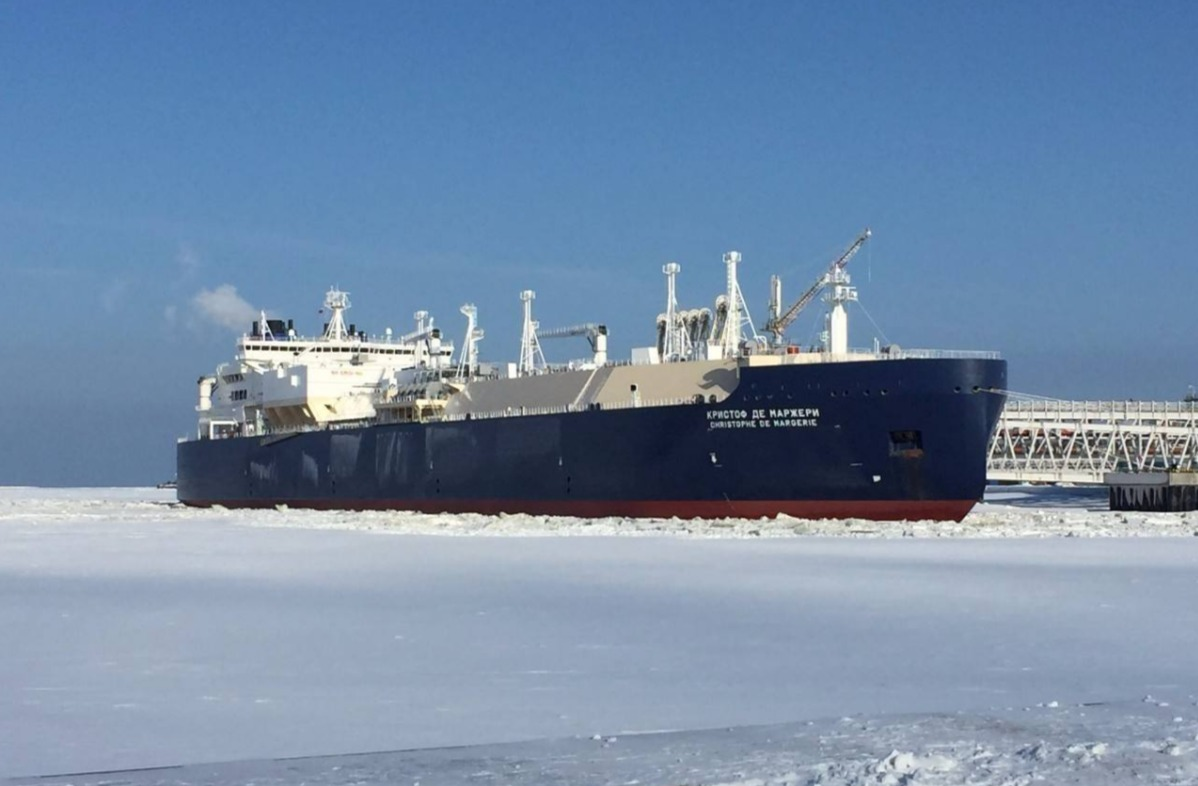Cargoship: (151, 235, 1016, 521)
